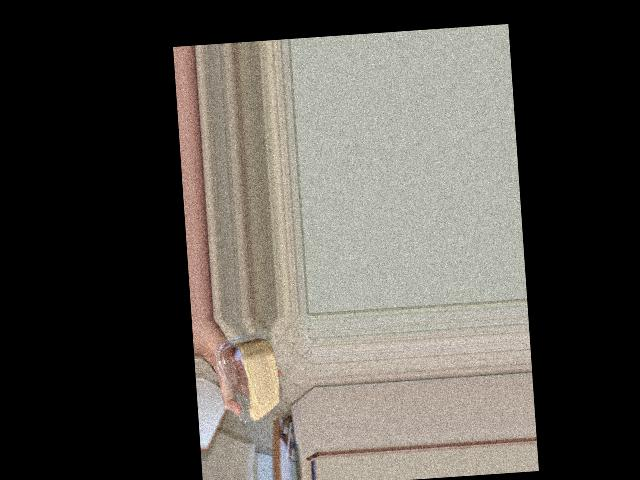cheese: (230, 327, 272, 404)
